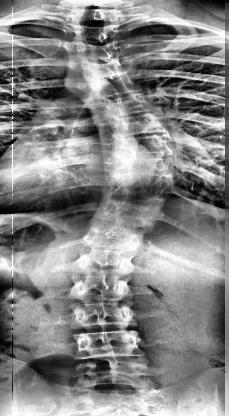Vertebrae: (70, 362, 156, 396), (70, 330, 144, 360), (96, 106, 166, 136), (74, 246, 138, 276), (70, 275, 136, 303), (102, 178, 172, 204), (96, 204, 160, 232), (77, 76, 151, 100), (102, 133, 173, 157), (70, 303, 132, 329), (114, 152, 176, 178), (83, 226, 147, 251), (63, 40, 128, 62), (90, 93, 154, 115), (71, 56, 131, 78), (66, 23, 134, 41)
